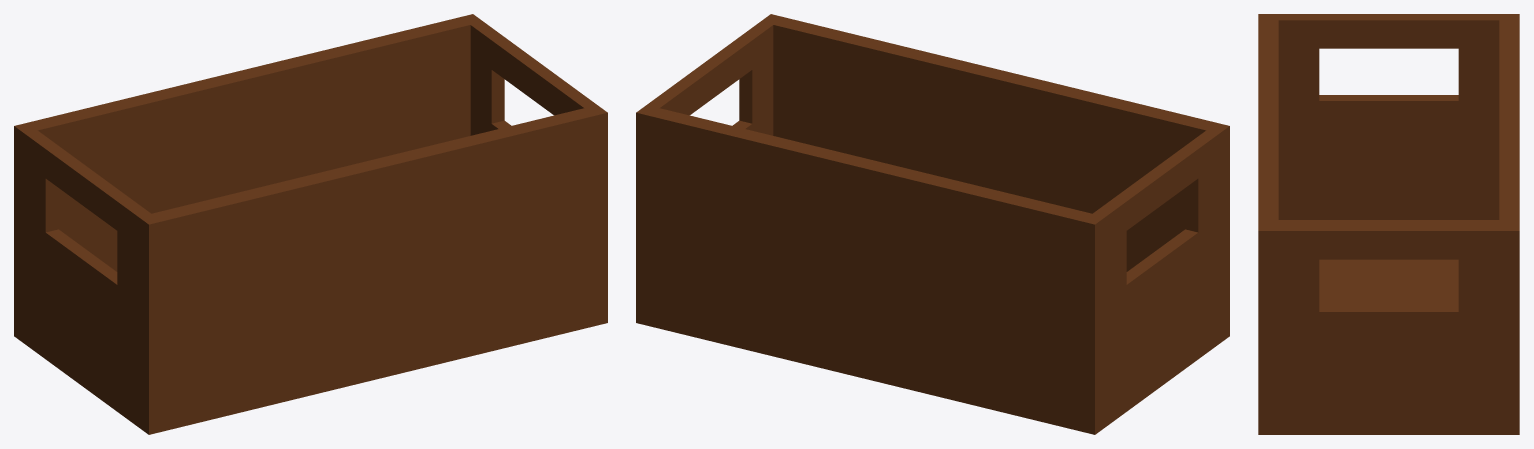
File: caisse.fbx
3 views of the same model, side by side, from view 1: azimuth 30°, elevation 25°; view 2: azimuth 150°, elevation 25°; view 3: azimuth 270°, elevation 25° (orthographic). The views are drawn at different scales.
Visible parts, largest first — view 1: Cube.013; view 2: Cube.013; view 3: Cube.013.
Part boxes in pixels (x1,y1,x2,y2): Cube.013: (14,14,607,434); Cube.013: (636,14,1229,434); Cube.013: (1258,14,1519,434).
Size of the model in its own units: 466 by 204 by 237.
1 material, 1 textured.
